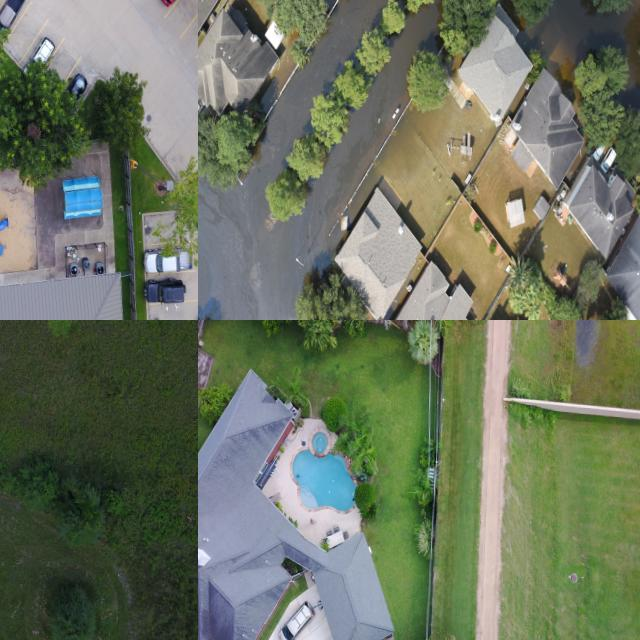fire: (198, 0, 440, 320), (546, 0, 640, 103)
